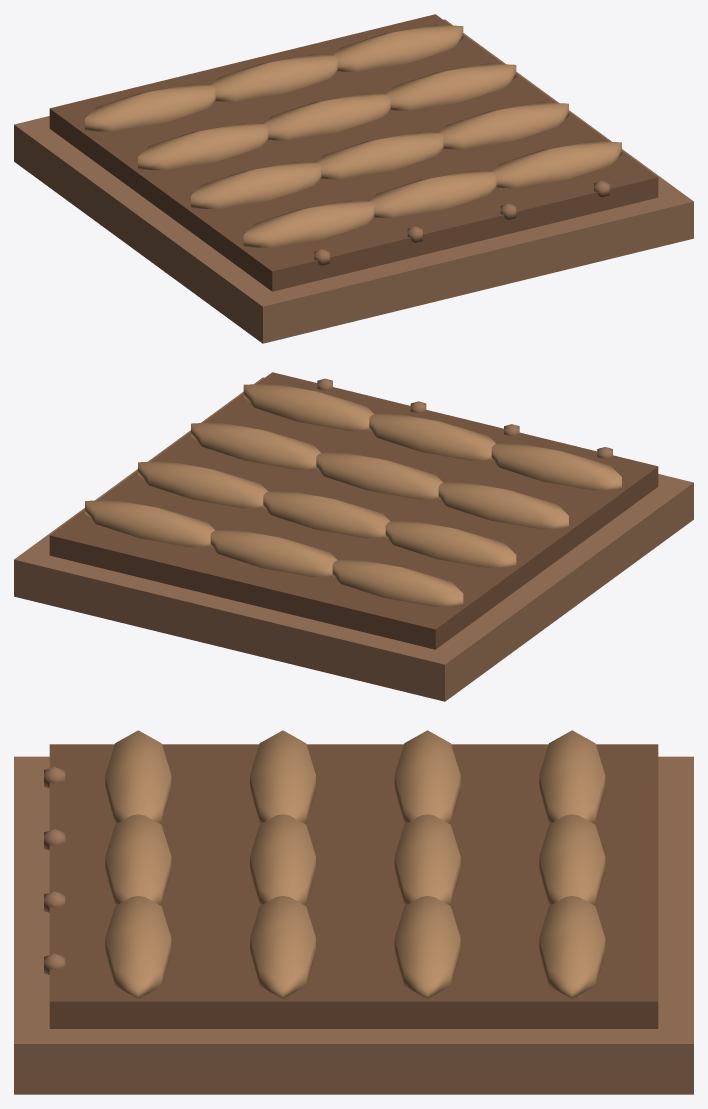
File: plot-tilled.gltf
3 renders of one model, top to bottom at view 1: azimuth 30°, elevation 25°; view 2: azimuth 150°, elevation 25°; view 3: azimuth 270°, elevation 25°, orthographic. The views are drawn at different scales.
Parts seen in each view (by area): view 1: topsoil, earth-block, soil-ridge-3-0, soil-ridge-1-0, soil-ridge-2-0, soil-ridge-0-0, soil-ridge-1-2, soil-ridge-0-2, soil-ridge-2-2, soil-ridge-3-2, soil-ridge-2-1, soil-ridge-0-1 (+2 smaller); view 2: topsoil, earth-block, soil-ridge-0-0, soil-ridge-2-0, soil-ridge-3-0, soil-ridge-1-0, soil-ridge-3-2, soil-ridge-2-2, soil-ridge-0-2, soil-ridge-1-2, soil-ridge-1-1, soil-ridge-2-1 (+2 smaller); view 3: topsoil, earth-block, soil-ridge-3-2, soil-ridge-0-2, soil-ridge-1-2, soil-ridge-2-2, soil-ridge-0-0, soil-ridge-3-0, soil-ridge-1-0, soil-ridge-2-0, soil-ridge-3-1, soil-ridge-0-1 (+2 smaller).
Part boxes in pixels (x1,y1,x2,y2): topsoil: (49, 14, 658, 291); earth-block: (14, 19, 693, 343); soil-ridge-3-0: (243, 200, 374, 248); soil-ridge-1-0: (138, 123, 268, 170); soil-ridge-2-0: (191, 162, 321, 209); soil-ridge-0-0: (85, 84, 215, 131); soil-ridge-1-2: (386, 63, 516, 110); soil-ridge-0-2: (333, 24, 463, 72); soil-ridge-2-2: (439, 102, 568, 149); soil-ridge-3-2: (492, 141, 621, 188); soil-ridge-2-1: (316, 132, 443, 179); soil-ridge-0-1: (211, 54, 337, 102); topsoil: (49, 372, 658, 649); earth-block: (14, 377, 693, 701); soil-ridge-0-0: (332, 559, 463, 606); soil-ridge-2-0: (438, 481, 568, 529); soil-ridge-3-0: (491, 443, 621, 490); soil-ridge-1-0: (385, 520, 516, 568); soil-ridge-3-2: (243, 383, 373, 430); soil-ridge-2-2: (191, 422, 320, 469); soil-ridge-0-2: (85, 499, 215, 547); soil-ridge-1-2: (138, 461, 267, 508); soil-ridge-1-1: (263, 490, 390, 538); soil-ridge-2-1: (316, 452, 443, 499); topsoil: (49, 744, 658, 1028); earth-block: (14, 756, 693, 1094); soil-ridge-3-2: (105, 896, 171, 998); soil-ridge-0-2: (539, 896, 605, 998); soil-ridge-1-2: (394, 896, 460, 998); soil-ridge-2-2: (250, 896, 315, 998); soil-ridge-0-0: (539, 730, 605, 823); soil-ridge-3-0: (105, 730, 171, 823); soil-ridge-1-0: (394, 730, 460, 823); soil-ridge-2-0: (250, 730, 315, 823); soil-ridge-3-1: (105, 814, 171, 905); soil-ridge-0-1: (539, 814, 605, 905).
Bounding box in the file's own units: 1.34 × 0.237 × 1.34.
